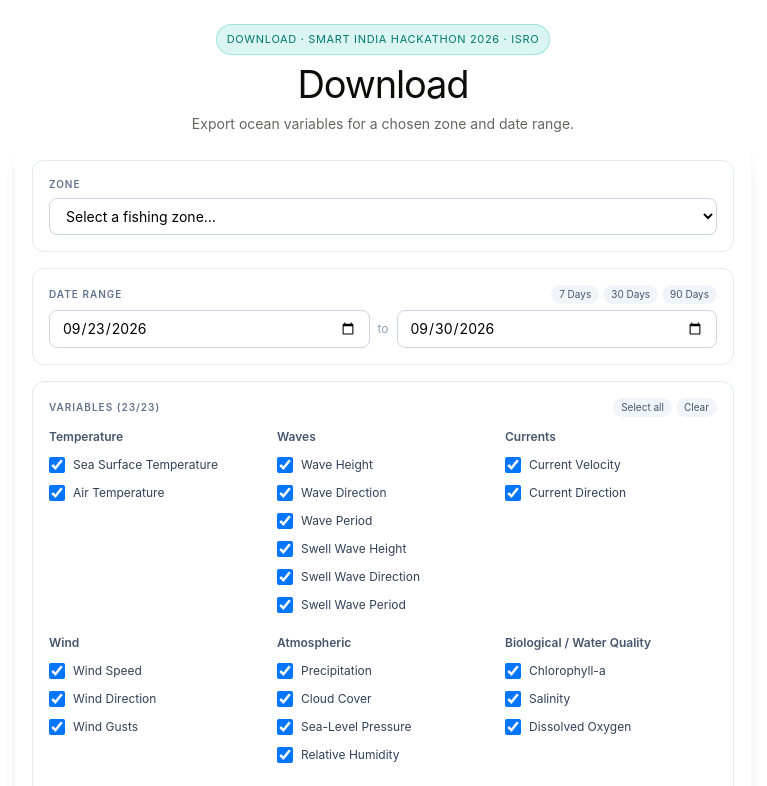
Test case: DownloadPage — export gating › shows an error banner instead of a raw navigation when the export request fails
Select "PFZ-001 — near Kochi" in the dropdown at (383, 217), box [49, 198, 717, 235]
(page scrolled)
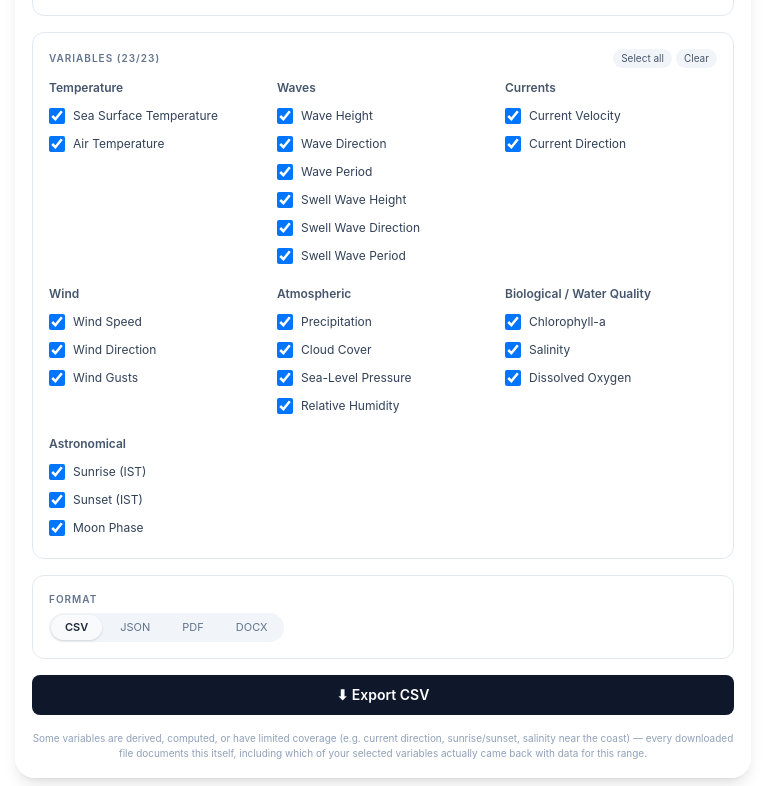
Click the button "⬇ Export CSV".
click(383, 695)  # box [32, 675, 734, 715]
(page scrolled)
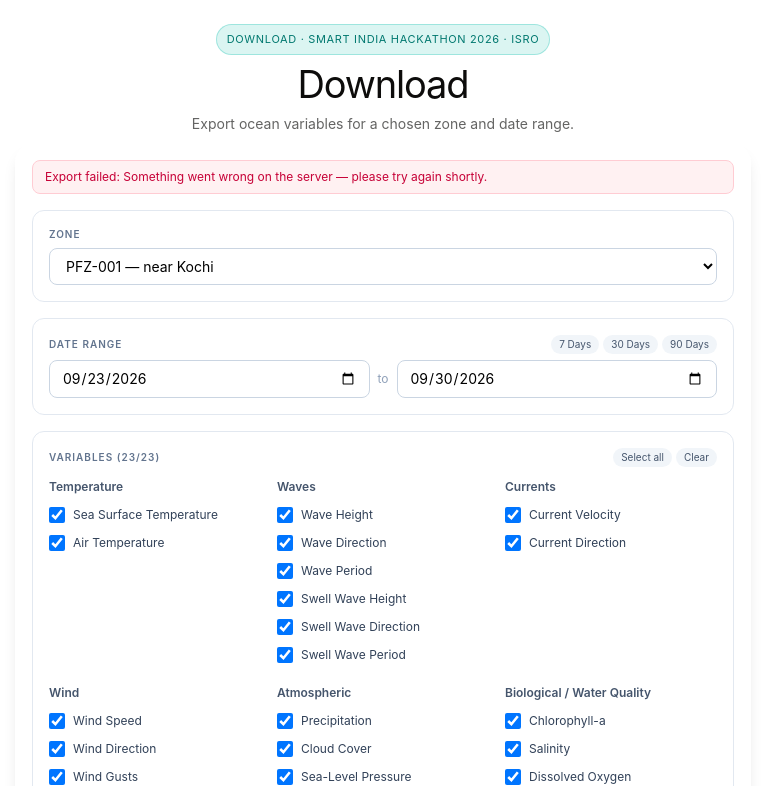
Result: the text "Export failed" is shown at [45, 169, 123, 184]
